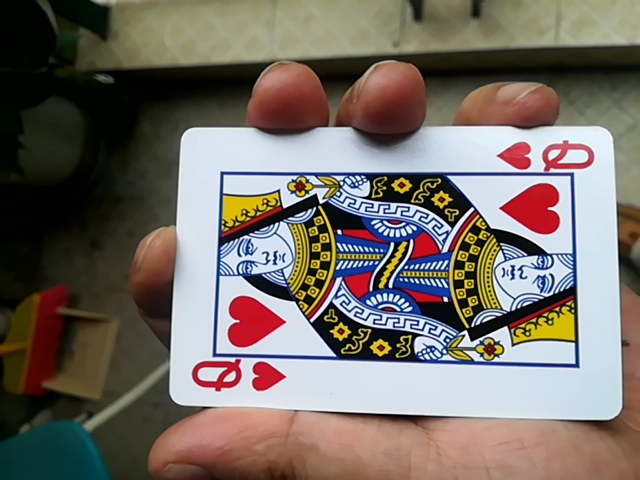hx q: (146, 120, 618, 426)
